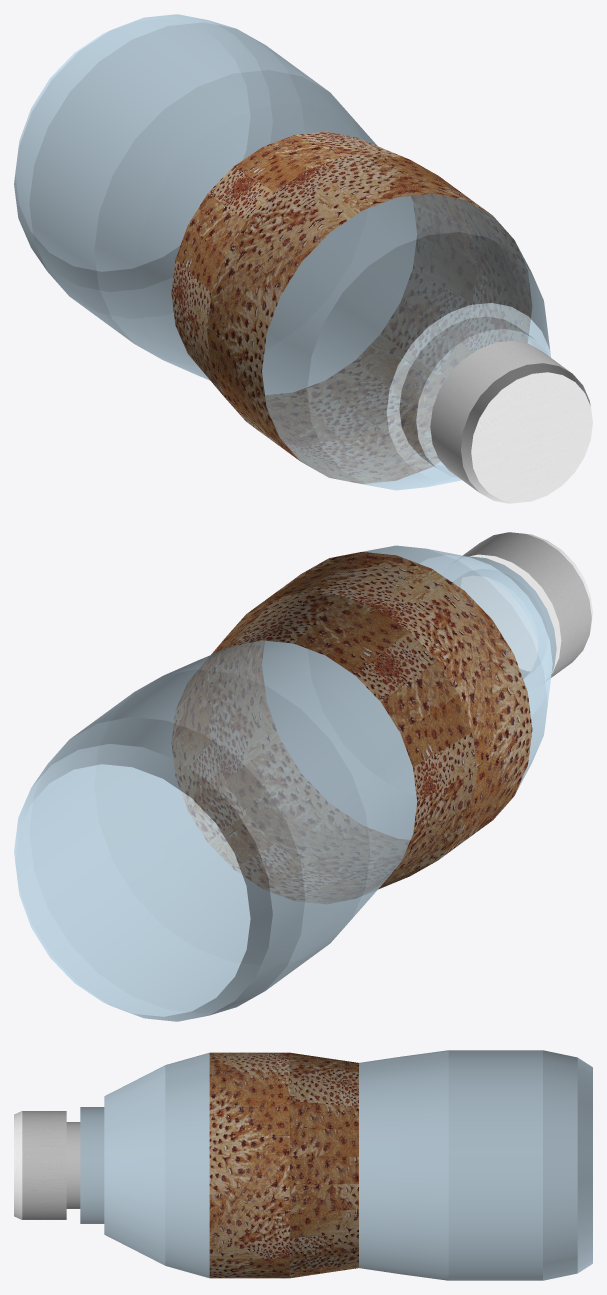
Rendered from model_align.obj.
The picture shows the model from 3 angles, top to bottom: view 1: azimuth 30°, elevation 25°; view 2: azimuth 150°, elevation 25°; view 3: azimuth 270°, elevation 25°; orthographic projection. The views are drawn at different scales.
Parts seen in each view (by area): view 1: mesh1_mesh1-geometry; view 2: mesh1_mesh1-geometry; view 3: mesh1_mesh1-geometry.
Boxes of the visible parts, left/top/right/bottom form: mesh1_mesh1-geometry: left=14, top=14, right=592, bottom=503; mesh1_mesh1-geometry: left=14, top=532, right=592, bottom=1021; mesh1_mesh1-geometry: left=14, top=1050, right=592, bottom=1280.
Bounding box in the file's own units: 0.0577 × 0.0577 × 0.1444.
